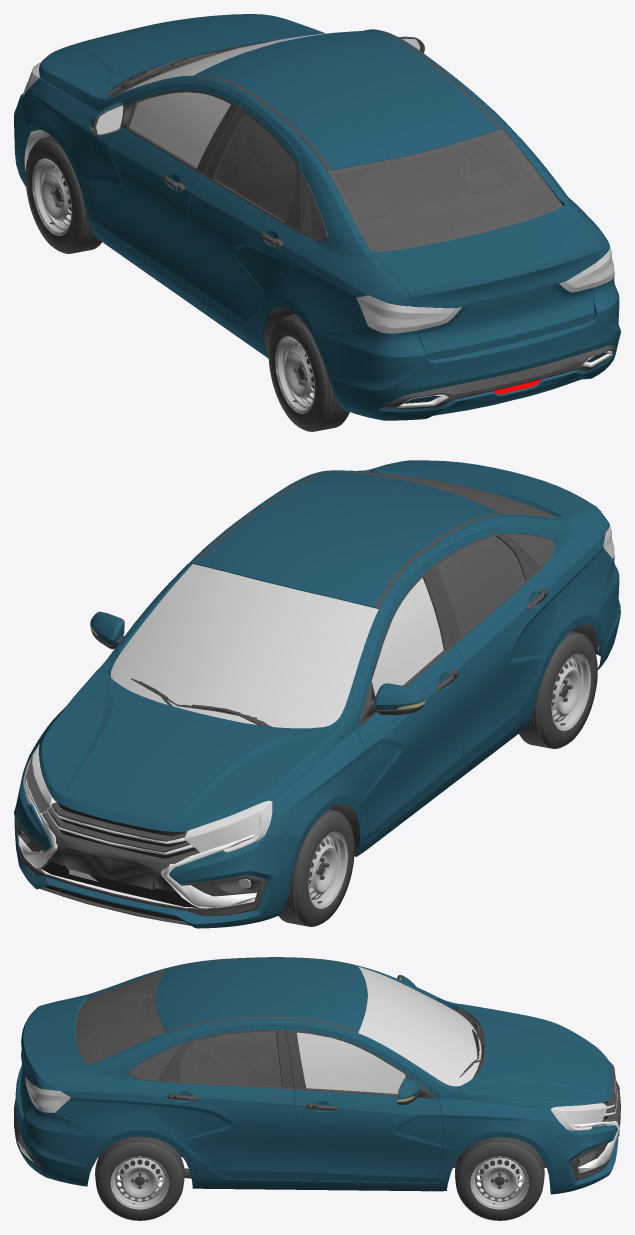
The model's file is vesta.glb.
3 views of the same model, one above another, from view 1: azimuth 30°, elevation 25°; view 2: azimuth 150°, elevation 25°; view 3: azimuth 270°, elevation 25° (orthographic). The views are drawn at different scales.
Visible parts, largest first — view 1: Kuzov, Bag, steklo (×3), doorPL, doorZL, kapot, wheel002, wheel003; view 2: Kuzov, steklo (×3), kapot, doorPL, doorZL, wheel003, wheel002, Bag, doorPP; view 3: Kuzov, doorPP, doorZP, steklo (×3), kapot, wheel001, wheel, Bag.
Boxes of the visible parts, x1,y1,x2,y2 form: Kuzov: [14, 29, 620, 420]; Bag: [372, 205, 597, 359]; steklo (×3): [124, 31, 562, 251]; doorPL: [89, 84, 242, 294]; doorZL: [187, 102, 301, 327]; kapot: [39, 14, 324, 104]; wheel002: [268, 313, 349, 431]; wheel003: [25, 136, 101, 253]; Kuzov: [14, 460, 620, 928]; steklo (×3): [111, 471, 556, 728]; kapot: [39, 671, 337, 831]; doorPL: [356, 563, 467, 838]; doorZL: [427, 529, 558, 766]; wheel003: [278, 809, 354, 926]; wheel002: [519, 630, 597, 748]; Bag: [371, 460, 595, 517]; doorPP: [90, 611, 124, 649]; Kuzov: [14, 957, 620, 1194]; doorPP: [285, 1025, 442, 1182]; doorZP: [151, 1025, 297, 1180]; steklo (×3): [75, 967, 481, 1086]; kapot: [457, 1004, 612, 1108]; wheel001: [95, 1136, 184, 1220]; wheel: [455, 1137, 544, 1220]; Bag: [20, 995, 88, 1114].
Size of the model in its own units: 2.07 by 1.52 by 4.43.
